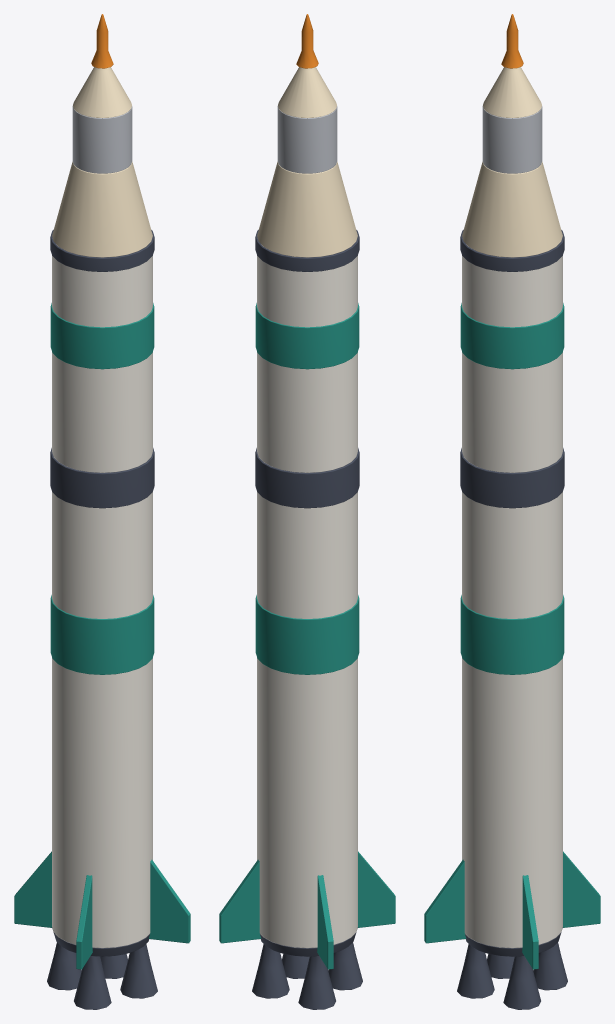
File: Ship_RocketSmall.glb
The picture shows the model from 3 angles, left to right: view 1: azimuth 30°, elevation 25°; view 2: azimuth 150°, elevation 25°; view 3: azimuth 330°, elevation 25°; orthographic projection.
Visible parts, largest first — view 1: Ship_RocketSmall.Stage1, Ship_RocketSmall.Stage2, Ship_RocketSmall.Adapter, Ship_RocketSmall.Band1, Ship_RocketSmall.Fins, Ship_RocketSmall.Engines, Ship_RocketSmall.Band2, Ship_RocketSmall.Ring1, Ship_RocketSmall.Payload_SM, Ship_RocketSmall.Payload_CM, Ship_RocketSmall.Ring2, Ship_RocketSmall.Payload_Tower (+1 smaller); view 2: Ship_RocketSmall.Stage1, Ship_RocketSmall.Stage2, Ship_RocketSmall.Adapter, Ship_RocketSmall.Band1, Ship_RocketSmall.Fins, Ship_RocketSmall.Engines, Ship_RocketSmall.Band2, Ship_RocketSmall.Ring1, Ship_RocketSmall.Payload_SM, Ship_RocketSmall.Payload_CM, Ship_RocketSmall.Ring2, Ship_RocketSmall.Payload_Tower (+1 smaller); view 3: Ship_RocketSmall.Stage1, Ship_RocketSmall.Stage2, Ship_RocketSmall.Adapter, Ship_RocketSmall.Band1, Ship_RocketSmall.Fins, Ship_RocketSmall.Engines, Ship_RocketSmall.Band2, Ship_RocketSmall.Ring1, Ship_RocketSmall.Payload_SM, Ship_RocketSmall.Payload_CM, Ship_RocketSmall.Ring2, Ship_RocketSmall.Payload_Tower (+1 smaller).
Part boxes in pixels (left/top/right/bottom): Ship_RocketSmall.Stage1: left=52, top=492, right=152, bottom=948; Ship_RocketSmall.Stage2: left=52, top=256, right=152, bottom=472; Ship_RocketSmall.Adapter: left=52, top=161, right=152, bottom=257; Ship_RocketSmall.Band1: left=50, top=595, right=154, bottom=674; Ship_RocketSmall.Fins: left=14, top=851, right=190, bottom=969; Ship_RocketSmall.Engines: left=47, top=942, right=157, bottom=1009; Ship_RocketSmall.Band2: left=50, top=303, right=154, bottom=369; Ship_RocketSmall.Ring1: left=50, top=448, right=154, bottom=508; Ship_RocketSmall.Payload_SM: left=72, top=106, right=132, bottom=173; Ship_RocketSmall.Payload_CM: left=73, top=67, right=131, bottom=118; Ship_RocketSmall.Ring2: left=50, top=230, right=154, bottom=271; Ship_RocketSmall.Payload_Tower: left=91, top=14, right=113, bottom=68; Ship_RocketSmall.Stage1: left=257, top=492, right=357, bottom=948; Ship_RocketSmall.Stage2: left=257, top=256, right=357, bottom=472; Ship_RocketSmall.Adapter: left=257, top=161, right=357, bottom=257; Ship_RocketSmall.Band1: left=255, top=595, right=359, bottom=674; Ship_RocketSmall.Fins: left=219, top=851, right=395, bottom=969; Ship_RocketSmall.Engines: left=252, top=942, right=362, bottom=1009; Ship_RocketSmall.Band2: left=255, top=303, right=359, bottom=369; Ship_RocketSmall.Ring1: left=255, top=448, right=359, bottom=508; Ship_RocketSmall.Payload_SM: left=277, top=106, right=337, bottom=173; Ship_RocketSmall.Payload_CM: left=278, top=67, right=336, bottom=118; Ship_RocketSmall.Ring2: left=255, top=230, right=359, bottom=271; Ship_RocketSmall.Payload_Tower: left=296, top=14, right=318, bottom=68; Ship_RocketSmall.Stage1: left=462, top=492, right=562, bottom=948; Ship_RocketSmall.Stage2: left=462, top=256, right=562, bottom=472; Ship_RocketSmall.Adapter: left=462, top=161, right=562, bottom=257; Ship_RocketSmall.Band1: left=460, top=595, right=564, bottom=674; Ship_RocketSmall.Fins: left=424, top=851, right=600, bottom=969; Ship_RocketSmall.Engines: left=457, top=942, right=567, bottom=1009; Ship_RocketSmall.Band2: left=460, top=303, right=564, bottom=369; Ship_RocketSmall.Ring1: left=460, top=448, right=564, bottom=508; Ship_RocketSmall.Payload_SM: left=482, top=106, right=542, bottom=173; Ship_RocketSmall.Payload_CM: left=483, top=67, right=541, bottom=118; Ship_RocketSmall.Ring2: left=460, top=230, right=564, bottom=271; Ship_RocketSmall.Payload_Tower: left=501, top=14, right=523, bottom=68.
Bounding box in the file's own units: 8.59 × 70 × 8.59.
Materials: 1 (1 with a texture image).
